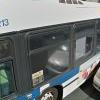Bus: (2, 1, 95, 97)
